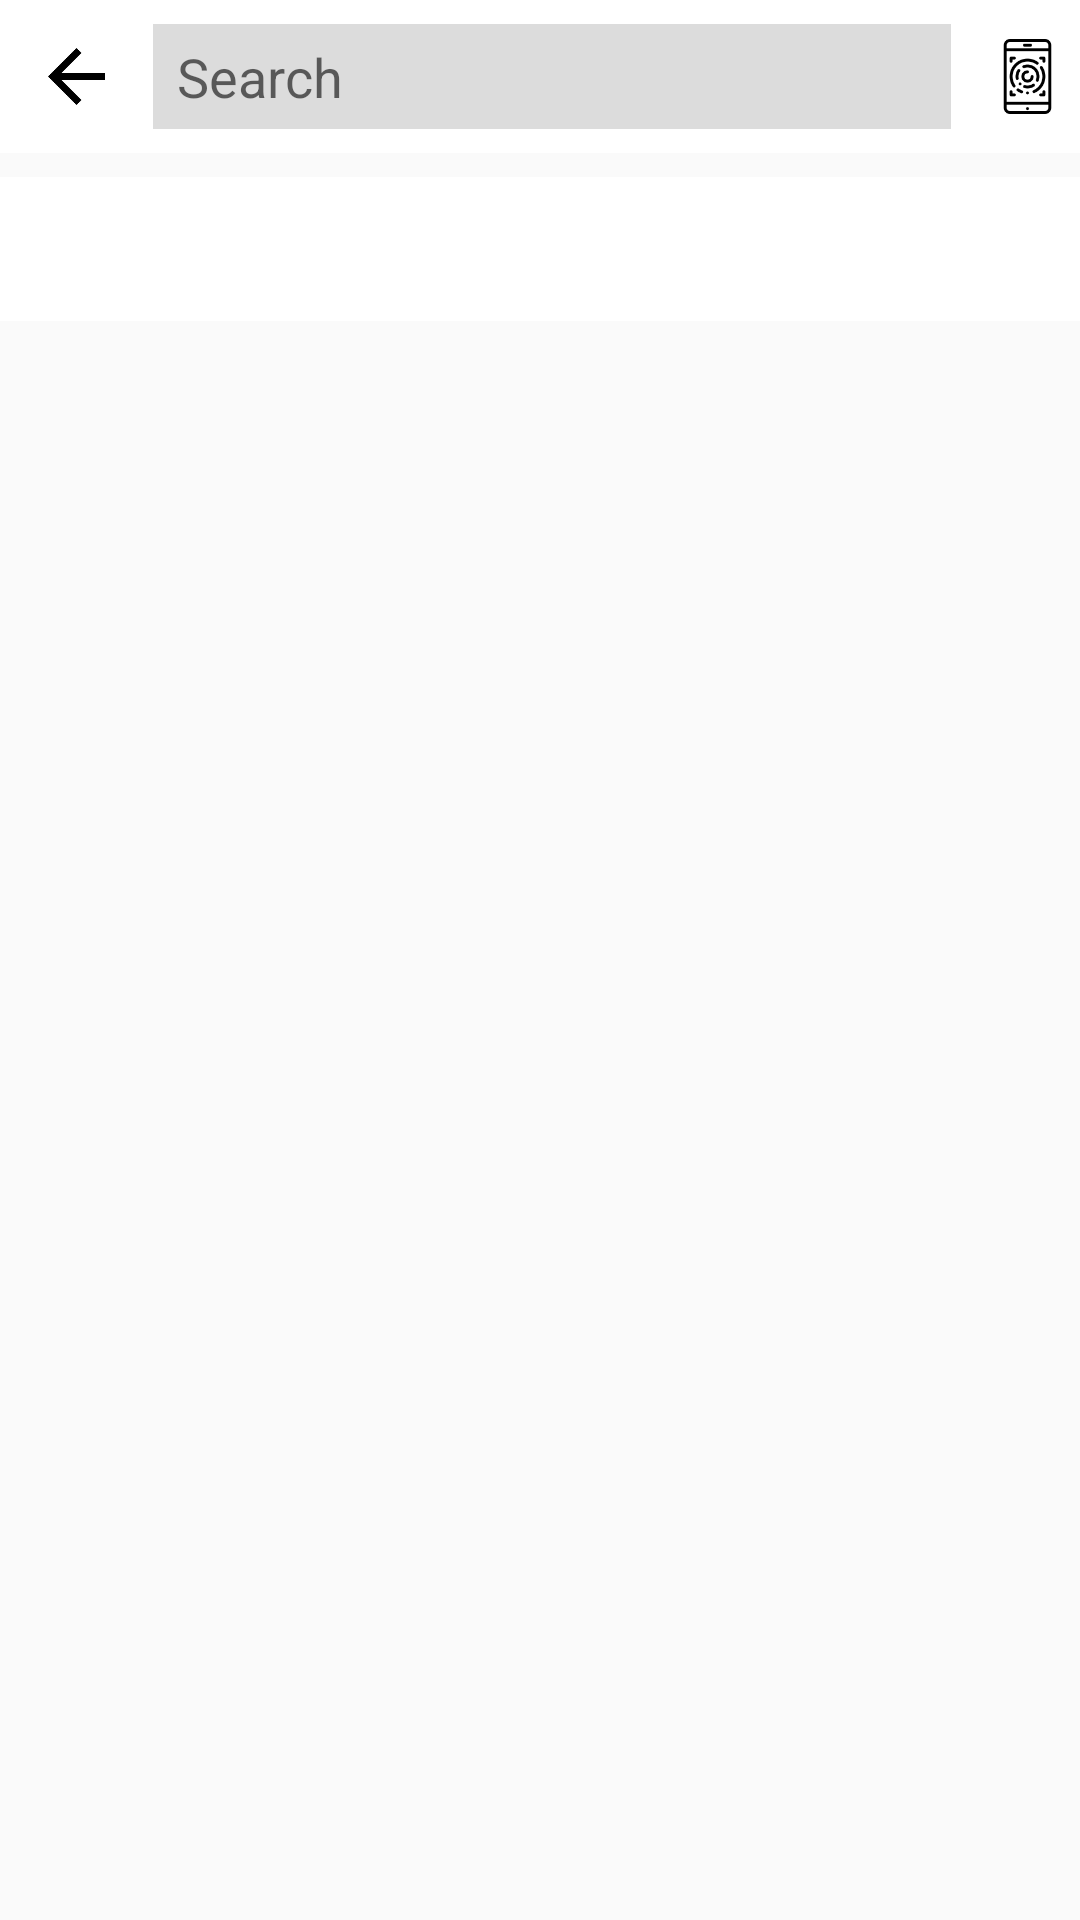

Icons on this 1080*1920 Android screen, each with its box as (x1, y1, x2, y2):
left arrow: (48, 48, 105, 105)
scanner: (1003, 39, 1052, 114)
